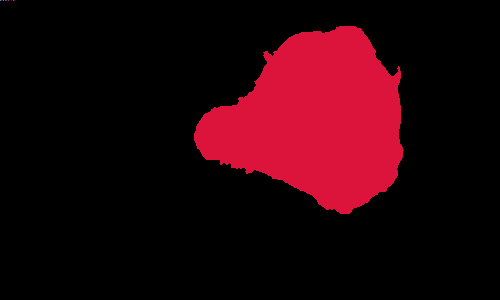toy: (188, 23, 409, 211)
